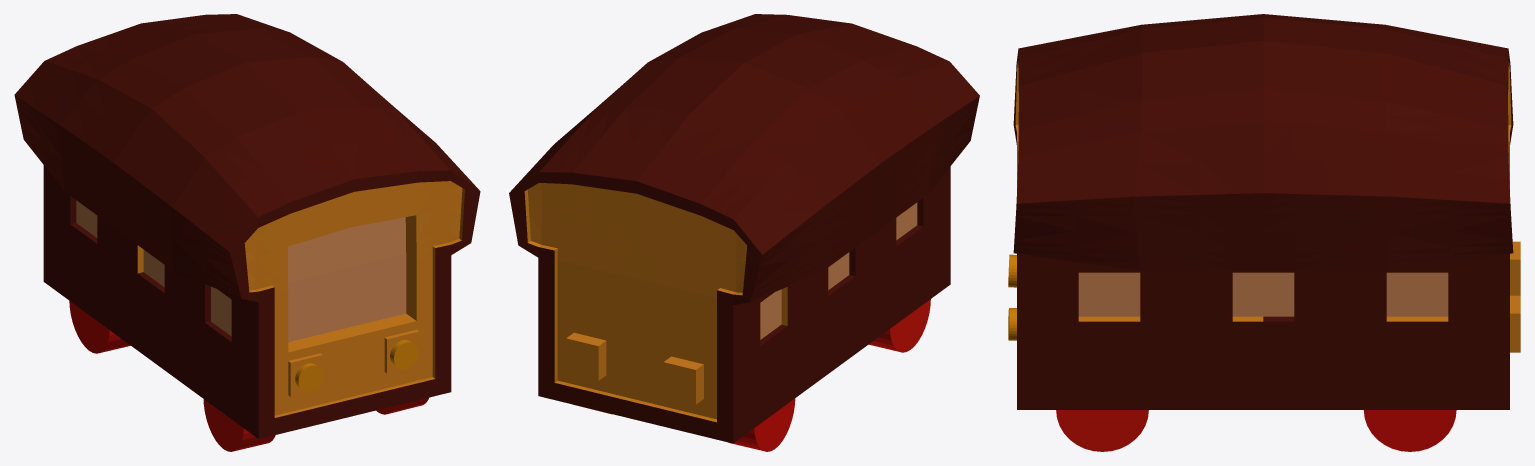
File: breadbus.obj
3 views of the same model, side by side, from view 1: azimuth 30°, elevation 25°; view 2: azimuth 150°, elevation 25°; view 3: azimuth 270°, elevation 25° (orthographic). The views are drawn at different scales.
Visible parts, largest first — view 1: Cube.001, Cylinder.001, Cylinder.002, Cylinder; view 2: Cube.001, Cylinder.002, Cylinder.001; view 3: Cube.001, Cylinder.001, Cylinder.002, Cylinder.
Part boxes in pixels (x1,y1,x2,y2): Cube.001: (14, 14, 480, 438); Cylinder.001: (203, 397, 428, 451); Cylinder.002: (69, 301, 130, 353); Cylinder: (295, 340, 418, 392); Cube.001: (509, 14, 979, 443); Cylinder.002: (579, 398, 795, 451); Cylinder.001: (869, 299, 930, 352); Cube.001: (1013, 14, 1520, 409); Cylinder.001: (1056, 410, 1148, 451); Cylinder.002: (1363, 410, 1456, 451); Cylinder: (1008, 254, 1016, 340).
Bounding box in the file's own units: 2.74 × 3.05 × 3.95.
